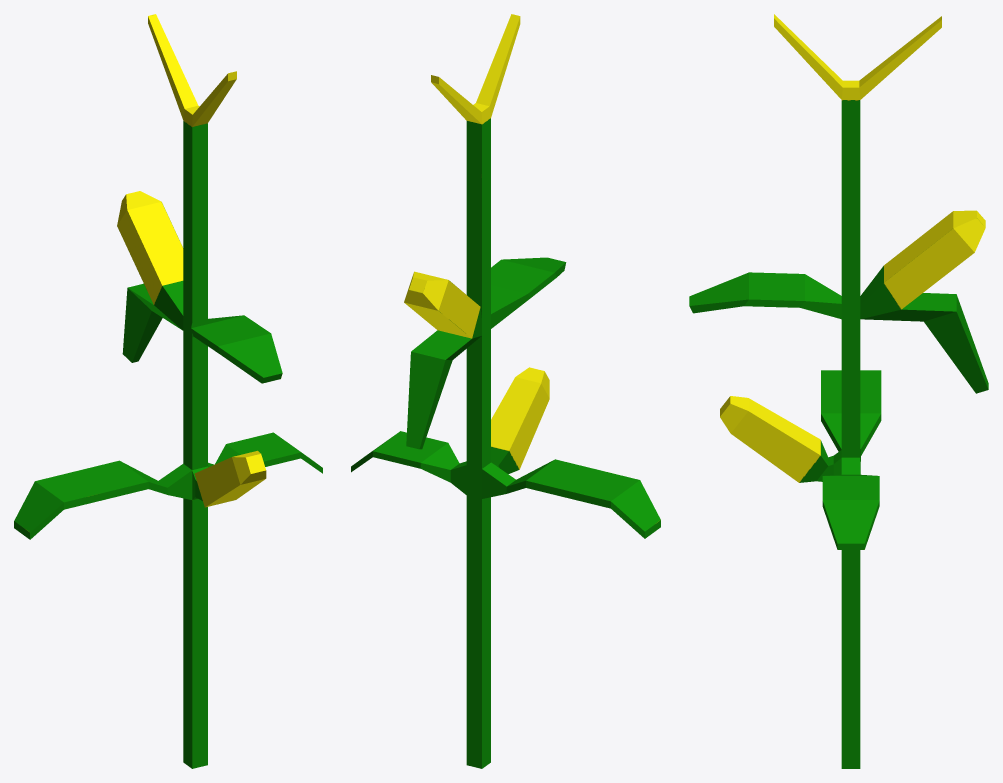
The model's file is Corn_Stalk.glb.
3 renders of one model, left to right at view 1: azimuth 30°, elevation 25°; view 2: azimuth 150°, elevation 25°; view 3: azimuth 270°, elevation 25°, orthographic. The views are drawn at different scales.
Parts seen in each view (by area): view 1: Corn_Stalk; view 2: Corn_Stalk; view 3: Corn_Stalk.
Boxes of the visible parts, x1=… form: Corn_Stalk: x1=14, y1=14, x2=322, y2=768; Corn_Stalk: x1=351, y1=14, x2=660, y2=768; Corn_Stalk: x1=689, y1=14, x2=988, y2=768.
Size of what is drawn, in the model's own units: 1.21 by 2.83 by 1.02.
Materials: 1 (1 with a texture image).
